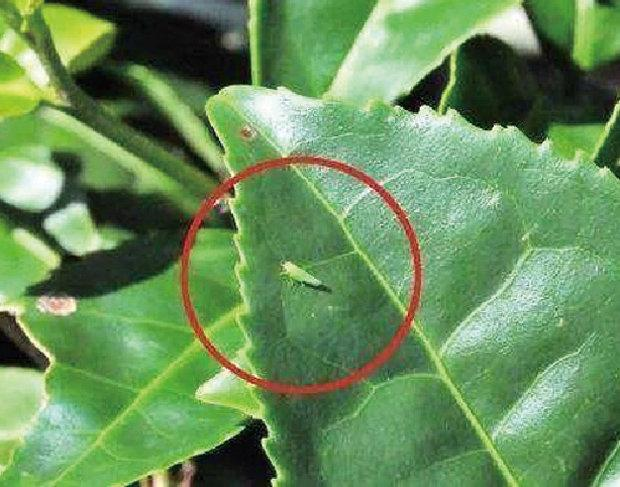Cicadellidae: (273, 254, 322, 290)
